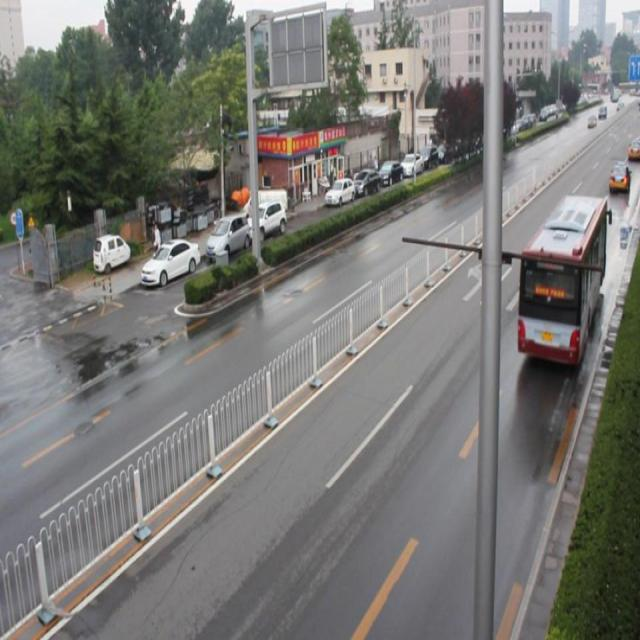car: (607, 160, 629, 192)
van: (517, 193, 610, 363)
